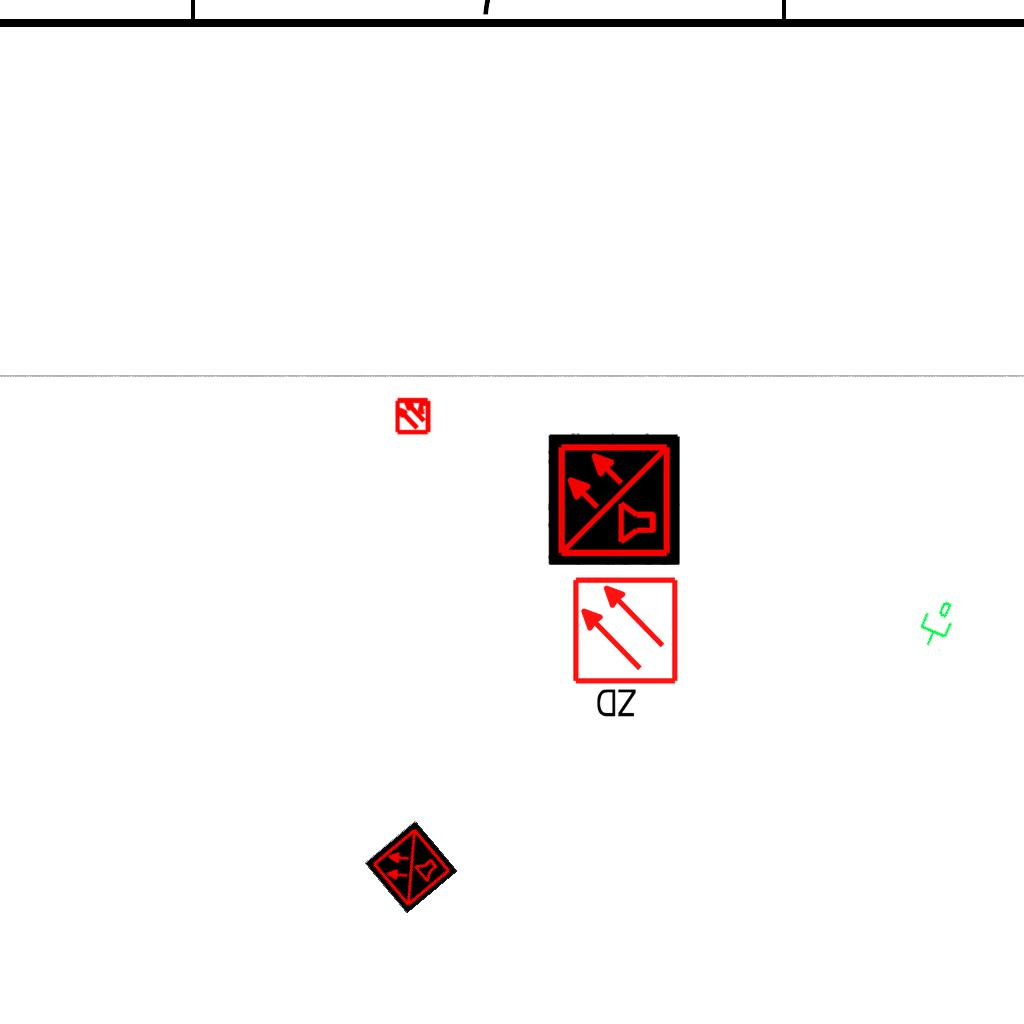Datenanschluss_einfach: (910, 593, 962, 653)
OKW_Multisensormelder_(Kombination_optischer_Rauch-Kahlenmonoxid_Waerme-Melder): (548, 433, 680, 565), (364, 820, 458, 914)
OT_Multisensormelder_(Kombination_RMO_WMD): (385, 387, 441, 443)
ZD_Melder_in_Zwischendecke_mit_Revisionsoeffnung_mind_40_x_40_cm: (570, 575, 684, 724)
